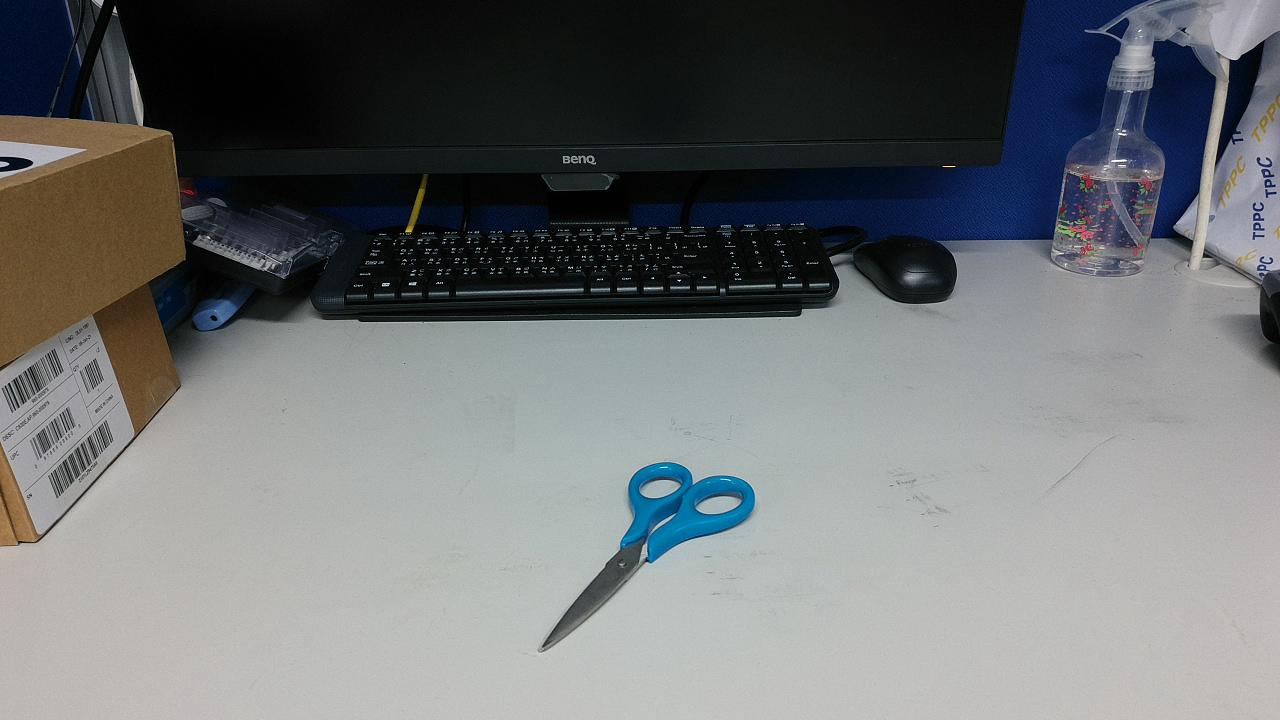columnar: (932, 292, 1182, 563)
grip: (976, 399, 1041, 532)
